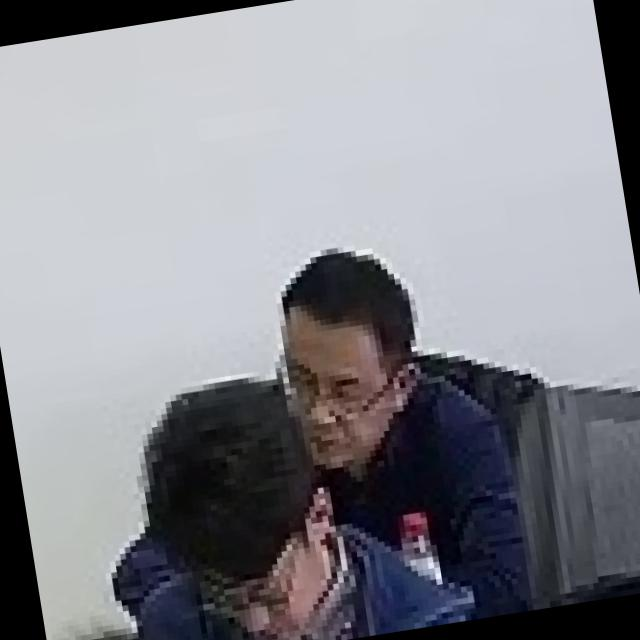listen: (265, 214, 539, 640)
trance: (115, 372, 350, 640)
